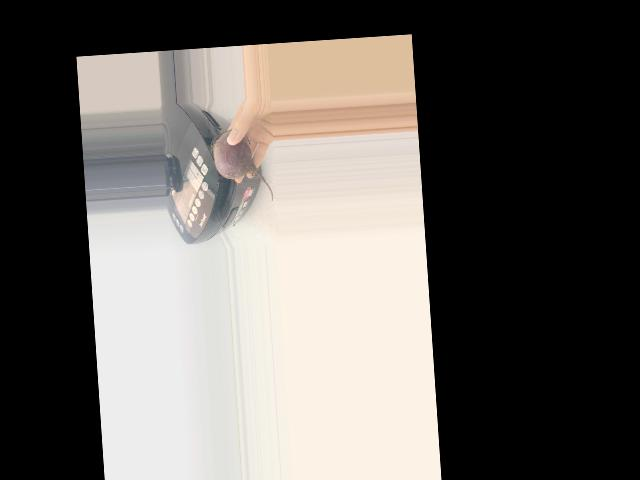beet: (209, 127, 273, 205)
